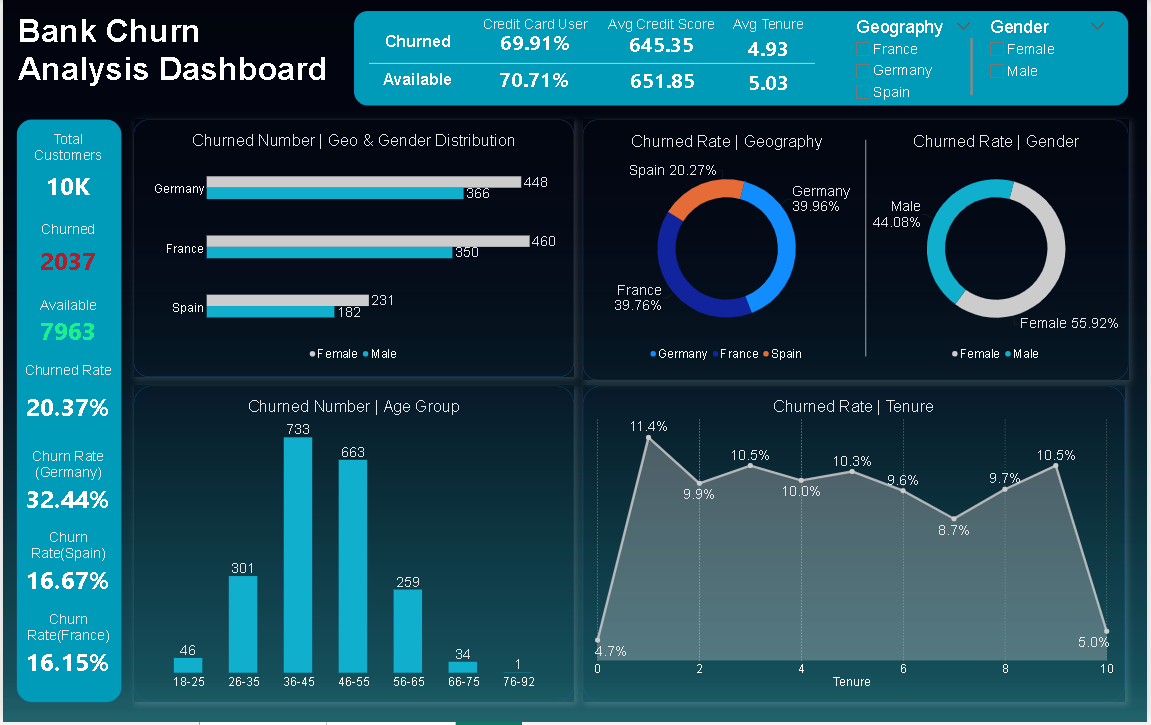

What the dashboard file says about the page in this screenshot:
{"tool":"powerbi","page":{"name":"Page 2","canvas":[3800,2400],"ordinal":1},"visuals":[{"type":"shape","box":[45,399.7,349.1,1936.7],"z":0},{"type":"shape","box":[1165.4,39.4,2572.9,315.3],"z":1000},{"type":"shape","box":[433.5,399.7,1463.8,855.7],"z":2000},{"type":"clusteredBarChart","title":"Churned Number | Geo & Gender Distribution","fields":{"Category":["Bank_Churn.Geography"],"Y":["Sum(Bank_Churn.Exited)"],"Series":["Bank_Churn.Gender"]},"box":[489.8,439.1,1351.2,771.3],"z":3000},{"type":"textbox","box":[45,39.4,1075.3,444.8],"z":4000},{"type":"card","title":"Total Customers","fields":{"Values":["Measures Table.Total Customers"]},"box":[61.9,439.1,309.6,247.7],"z":5000},{"type":"card","title":"Churned","fields":{"Values":["Measures Table.Churned Count"]},"box":[61.9,737.5,309.6,202.7],"z":6000},{"type":"card","title":"Available","fields":{"Values":["Measures Table.Available Count"]},"box":[61.9,990.9,309.6,163.3],"z":7000},{"type":"card","title":"Churned Rate","fields":{"Values":["Measures Table.Churned %"]},"box":[61.9,1204.8,309.6,236.5],"z":8000},{"type":"card","title":"Churn Rate (Germany)","fields":{"Values":["Measures Table.France Churn %"]},"box":[61.9,1491.9,309.6,219.6],"z":9000},{"type":"card","title":"Churn Rate(Spain)","fields":{"Values":["Measures Table.Spain Churn %"]},"box":[61.9,1762.2,309.6,219.6],"z":10000},{"type":"card","title":"Churn Rate(France)","fields":{"Values":["Measures Table.France Churn %"]},"box":[61.9,2032.4,309.6,225.2],"z":11000},{"type":"shape","box":[1216.1,67.6,320.9,146.4],"z":12000},{"type":"shape","box":[1216.1,185.8,320.9,163.3],"z":13000},{"type":"card","title":"Credit Card User","fields":{"Values":["Measures Table.Avg Churned Cr.Card user"]},"box":[1537,56.3,461.7,118.2],"z":14000},{"type":"card","title":"Churned","fields":{"Values":["Measures Table.Available Cr.Card users"]},"box":[1632.7,191.4,264.6,146.4],"z":15000},{"type":"card","title":"Avg Credit Score","fields":{"Values":["Measures Table.Avg Credit Chunred Score"]},"box":[2004.2,56.3,365.9,129.5],"z":16000},{"type":"card","title":"Churned","fields":{"Values":["Measures Table.Avg Credit Available Score"]},"box":[2049.3,208.3,281.5,118.2],"z":17000},{"type":"card","title":"Avg Tenure","fields":{"Values":["Measures Table.Avg Tenure Chunred"]},"box":[2387.1,56.3,309.6,157.6],"z":18000},{"type":"card","title":"Churned","fields":{"Values":["Measures Table.Avg Tenure Available"]},"box":[2426.5,225.2,230.8,95.7],"z":19000},{"type":"slicer","fields":{"Values":["Bank_Churn.Geography"]},"box":[2820.6,56.3,405.4,281.5],"z":20000},{"type":"slicer","fields":{"Values":["Bank_Churn.Gender"]},"box":[3265.3,56.3,405.4,275.9],"z":21000},{"type":"shape","box":[1216.1,45,1480.7,337.8],"z":22000},{"type":"shape","box":[1925.4,399.7,1812.8,867],"z":23000},{"type":"donutChart","title":"Churned Rate | Gender","fields":{"Category":["Bank_Churn.Gender"],"Y":["Sum(Bank_Churn.Exited)"]},"box":[2871.2,444.8,855.7,765.7],"z":24000},{"type":"donutChart","title":"Churned Rate | Geography","fields":{"Y":["Sum(Bank_Churn.Exited)"],"Category":["Bank_Churn.Geography"]},"box":[1976.1,444.8,855.7,765.7],"z":25000},{"type":"shape","box":[1925.4,1283.6,1801.6,1052.8],"z":26000},{"type":"areaChart","title":"Churned Rate | Tenure","fields":{"Y":["Sum(Bank_Churn.Exited)"],"Category":["Bank_Churn.Tenure"]},"box":[1959.2,1323,1734,974],"z":27000},{"type":"shape","box":[433.5,1283.6,1463.8,1052.8],"z":28000},{"type":"lineStackedColumnComboChart","title":"Churned Number | Age Group","fields":{"Category":["Bank_Churn.Age Group"],"Y":["Sum(Bank_Churn.Exited)"]},"box":[489.8,1323,1351.2,974],"z":29000},{"type":"shape","box":[2657.3,467.3,416.6,720.6],"z":30000}]}

Visuals, with their boxes in screenshot pixels (x1, y1, x2, y2), scaled from the page's 3800x2400 canvas onto the 1151x725 screenshot:
shape: [14, 121, 119, 706]
shape: [353, 12, 1132, 107]
shape: [131, 121, 575, 379]
"Churned Number | Geo & Gender Distribution" clusteredBarChart: [148, 133, 558, 366]
textbox: [14, 12, 339, 146]
"Total Customers" card: [19, 133, 113, 207]
"Churned" card: [19, 223, 113, 284]
"Available" card: [19, 299, 113, 349]
"Churned Rate" card: [19, 364, 113, 435]
"Churn Rate (Germany)" card: [19, 451, 113, 517]
"Churn Rate(Spain)" card: [19, 532, 113, 599]
"Churn Rate(France)" card: [19, 614, 113, 682]
shape: [368, 20, 466, 65]
shape: [368, 56, 466, 105]
"Credit Card User" card: [466, 17, 605, 53]
"Churned" card: [495, 58, 575, 102]
"Avg Credit Score" card: [607, 17, 718, 56]
"Churned" card: [621, 63, 706, 99]
"Avg Tenure" card: [723, 17, 817, 65]
"Churned" card: [735, 68, 805, 97]
slicer - Bank_Churn.Geography: [854, 17, 977, 102]
slicer - Bank_Churn.Gender: [989, 17, 1112, 100]
shape: [368, 14, 817, 116]
shape: [583, 121, 1132, 383]
"Churned Rate | Gender" donutChart: [870, 134, 1129, 366]
"Churned Rate | Geography" donutChart: [599, 134, 858, 366]
shape: [583, 388, 1129, 706]
"Churned Rate | Tenure" areaChart: [593, 400, 1119, 694]
shape: [131, 388, 575, 706]
"Churned Number | Age Group" lineStackedColumnComboChart: [148, 400, 558, 694]
shape: [805, 141, 931, 359]
